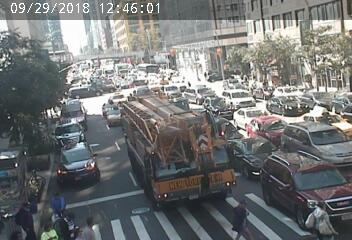car: (135, 106, 205, 187), (265, 143, 330, 214), (65, 147, 102, 180), (301, 134, 338, 162), (239, 132, 272, 162), (326, 87, 348, 114), (227, 86, 254, 107), (57, 129, 90, 146), (250, 115, 280, 133), (205, 95, 225, 114), (62, 108, 85, 124), (278, 95, 299, 111), (71, 84, 98, 96), (184, 86, 203, 103), (107, 106, 121, 127), (230, 109, 255, 118), (118, 64, 131, 77), (164, 84, 178, 96), (112, 92, 123, 105), (102, 67, 115, 78), (143, 64, 157, 74), (281, 86, 291, 93)
